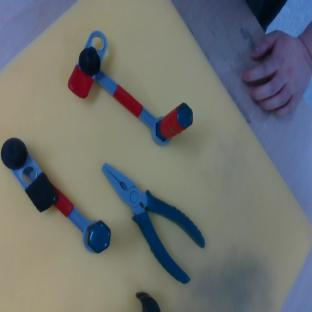non_pass: (0, 133, 118, 263)
pass: (54, 28, 199, 164)
